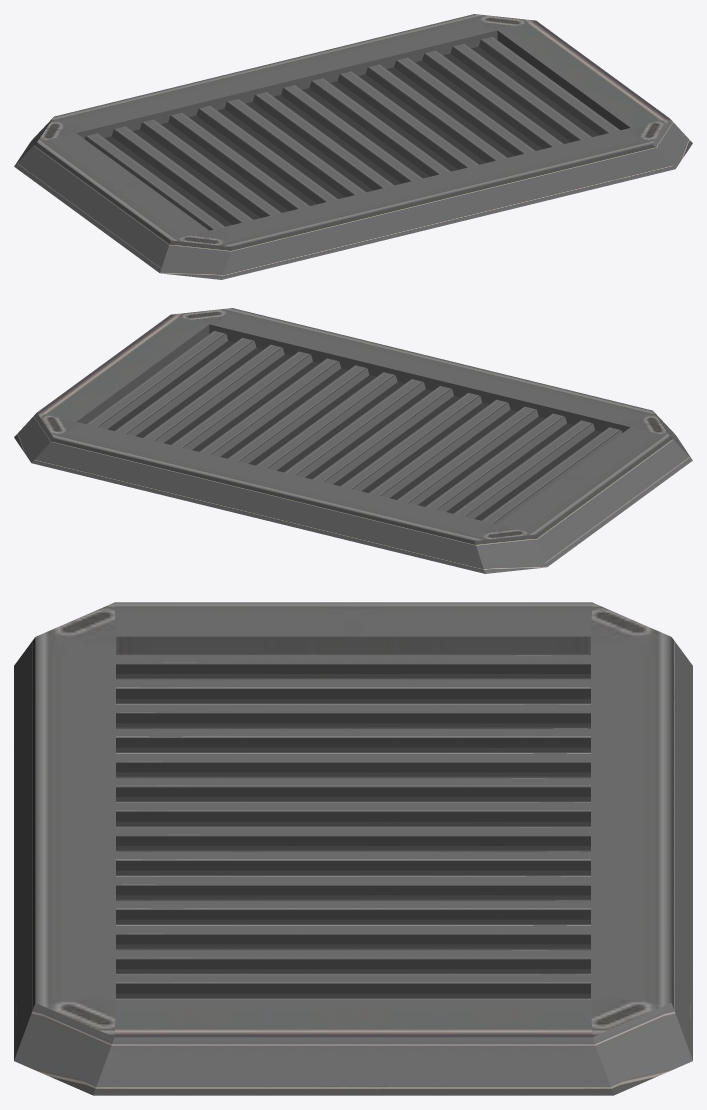
Rendered from Prop_Vent_Small.glb.
3 renders of one model, top to bottom at view 1: azimuth 30°, elevation 25°; view 2: azimuth 150°, elevation 25°; view 3: azimuth 270°, elevation 25°, orthographic. The views are drawn at different scales.
Parts seen in each view (by area): view 1: Prop_Vent_Small; view 2: Prop_Vent_Small; view 3: Prop_Vent_Small.
Part boxes in pixels (x1,y1,x2,y2): Prop_Vent_Small: (14, 14, 692, 279); Prop_Vent_Small: (14, 308, 692, 573); Prop_Vent_Small: (14, 602, 692, 1095).
Bounding box in the file's own units: 1 × 0.0438 × 0.6182.
3 materials, 2 textured.
